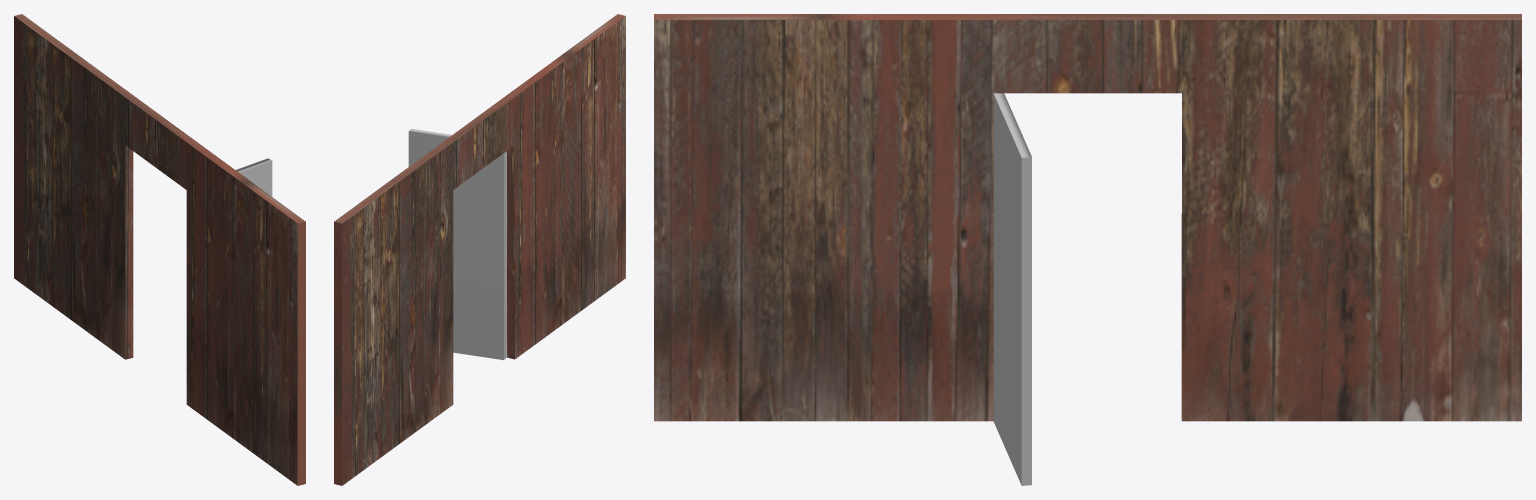
Rendered from GP3_Door.fbx.
3 views of the same model, side by side, from view 1: azimuth 30°, elevation 25°; view 2: azimuth 150°, elevation 25°; view 3: azimuth 270°, elevation 25° (orthographic). The views are drawn at different scales.
Parts seen in each view (by area): view 1: pCube1, pPlane1; view 2: pCube1, pPlane1; view 3: pCube1, pPlane1.
Boxes of the visible parts, box(x1,y1,x2,y2) form: pCube1: box(14, 14, 305, 485); pPlane1: box(236, 158, 272, 196); pCube1: box(334, 14, 625, 485); pPlane1: box(408, 129, 506, 360); pCube1: box(654, 14, 1521, 421); pPlane1: box(993, 93, 1031, 485).
Size of the model in its own units: 3.21 by 8.5 by 16.66.
